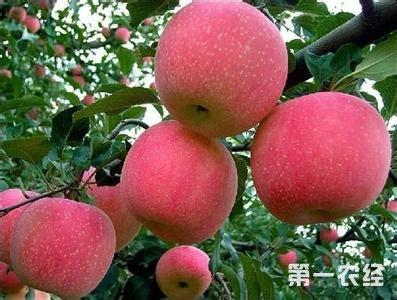apple: (148, 1, 287, 137), (251, 93, 391, 226), (117, 116, 240, 242), (6, 193, 116, 298), (154, 244, 211, 298), (103, 24, 129, 44), (318, 225, 337, 244), (21, 14, 40, 33), (114, 27, 129, 43)
